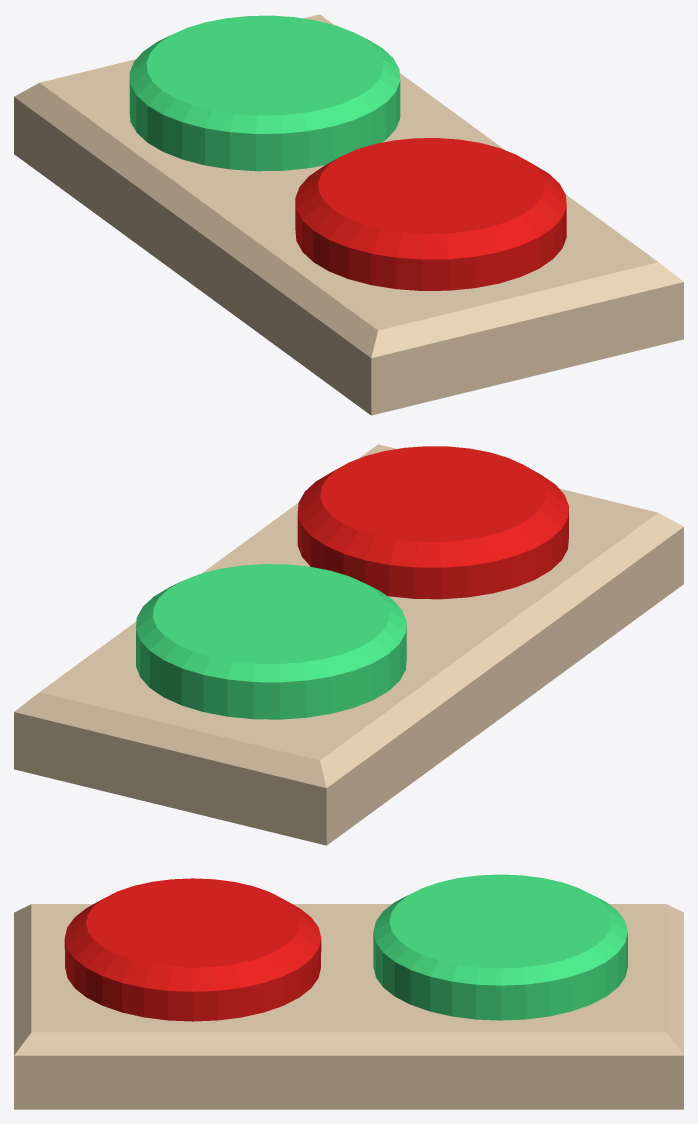
Rendered from 2 buttons.fbx.
The picture shows the model from 3 angles, top to bottom: view 1: azimuth 30°, elevation 25°; view 2: azimuth 150°, elevation 25°; view 3: azimuth 270°, elevation 25°; orthographic projection. The views are drawn at different scales.
Parts seen in each view (by area): view 1: Cube, Cube.001, Cylinder; view 2: Cube, Cube.001, Cylinder; view 3: Cube, Cube.001, Cylinder.
Boxes of the visible parts, x1,y1,x2,y2 form: Cube: (14, 14, 683, 415); Cube.001: (129, 15, 400, 171); Cylinder: (295, 138, 566, 290); Cube: (14, 444, 683, 845); Cube.001: (136, 564, 406, 719); Cylinder: (297, 446, 568, 599); Cube: (14, 904, 683, 1109); Cube.001: (373, 874, 627, 1020); Cylinder: (64, 878, 321, 1021).
Size of the model in its own units: 266 by 99.74 by 526.
